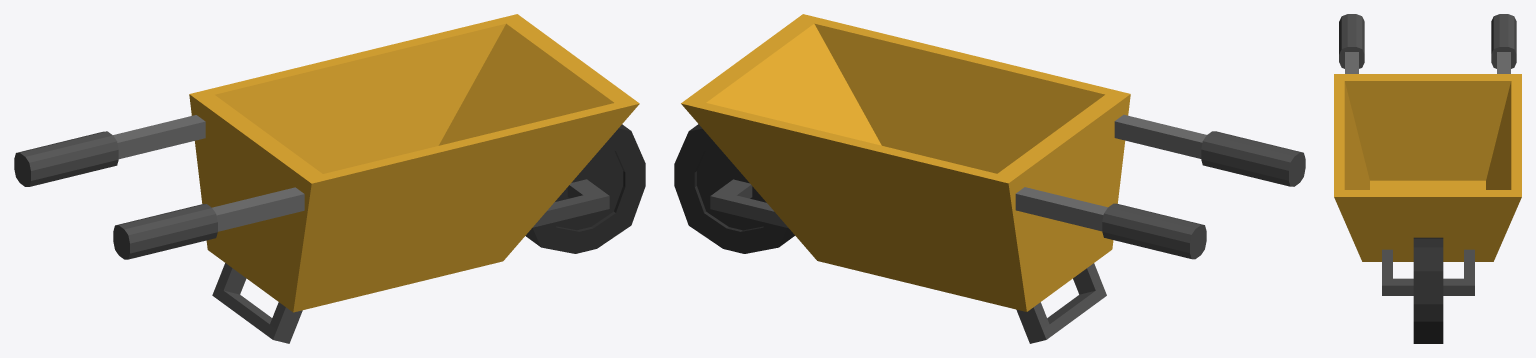
3 renders of one model, left to right at view 1: azimuth 30°, elevation 25°; view 2: azimuth 150°, elevation 25°; view 3: azimuth 270°, elevation 25°, orthographic. The views are drawn at different scales.
Visible parts, largest first — view 1: G-1, Cube.387; view 2: G-1, Cube.387; view 3: G-1, Cube.387.
Boxes of the visible parts, <box> form: G-1: <box>14,14,639,343</box>; Cube.387: <box>525,124,645,253</box>; G-1: <box>681,14,1305,343</box>; Cube.387: <box>674,124,794,253</box>; G-1: <box>1334,14,1521,295</box>; Cube.387: <box>1413,237,1443,343</box>.
Bounding box in the file's own units: 401 × 126 × 151.
